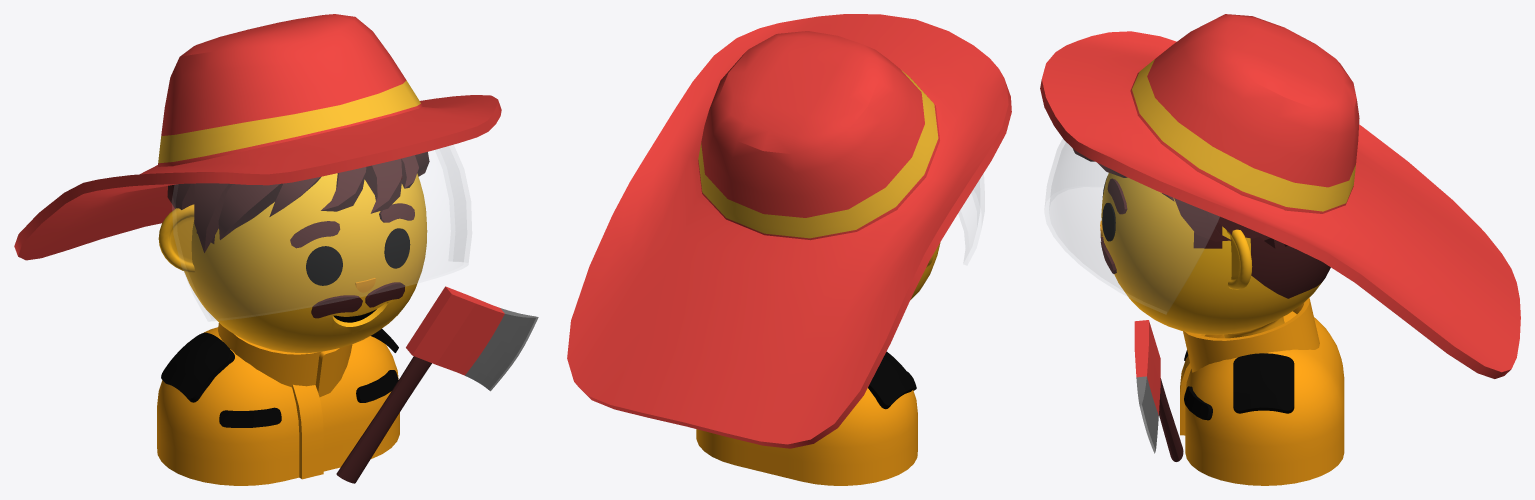
Rendered from man_firefighter.fbx.
3 renders of one model, left to right at view 1: azimuth 30°, elevation 25°; view 2: azimuth 150°, elevation 25°; view 3: azimuth 270°, elevation 25°, orthographic. The views are drawn at different scales.
Visible parts, largest first — view 1: Plane.072, Sphere.108, Roundcube.140, Sphere.106, Cube.1749, Cube.1740, Circle.766, Cube.1748, Circle.762, Cylinder.116, Sphere.107, Circle.765 (+1 smaller); view 2: Plane.072, Sphere.106, Cube.1748, Sphere.108; view 3: Plane.072, Roundcube.140, Sphere.106, Sphere.108, Circle.766, Cube.1748, Cube.1749, Cube.1740, Cylinder.116, Sphere.107.
Part boxes in pixels (<box>): Plane.072: <box>14,14,501,260</box>; Sphere.108: <box>172,145,471,320</box>; Roundcube.140: <box>184,173,427,353</box>; Sphere.106: <box>157,327,399,485</box>; Cube.1749: <box>336,286,538,483</box>; Cube.1740: <box>167,152,429,252</box>; Circle.766: <box>218,323,352,397</box>; Cube.1748: <box>161,329,398,402</box>; Circle.762: <box>306,228,410,285</box>; Cylinder.116: <box>158,204,194,272</box>; Sphere.107: <box>219,370,398,427</box>; Circle.765: <box>311,282,405,318</box>; Plane.072: <box>567,14,1011,448</box>; Sphere.106: <box>696,388,917,485</box>; Cube.1748: <box>868,351,915,409</box>; Sphere.108: <box>959,174,984,264</box>; Plane.072: <box>1040,14,1520,378</box>; Roundcube.140: <box>1101,173,1330,338</box>; Sphere.106: <box>1180,311,1344,485</box>; Sphere.108: <box>1045,139,1219,313</box>; Circle.766: <box>1183,298,1319,372</box>; Cube.1748: <box>1233,353,1294,413</box>; Cube.1749: <box>1134,320,1183,461</box>; Cube.1740: <box>1072,148,1287,248</box>; Cylinder.116: <box>1226,229,1252,289</box>; Sphere.107: <box>1184,350,1212,420</box>.
Size of the model in its own units: 220 by 258 by 272.
Materials: 3 (2 with a texture image).
